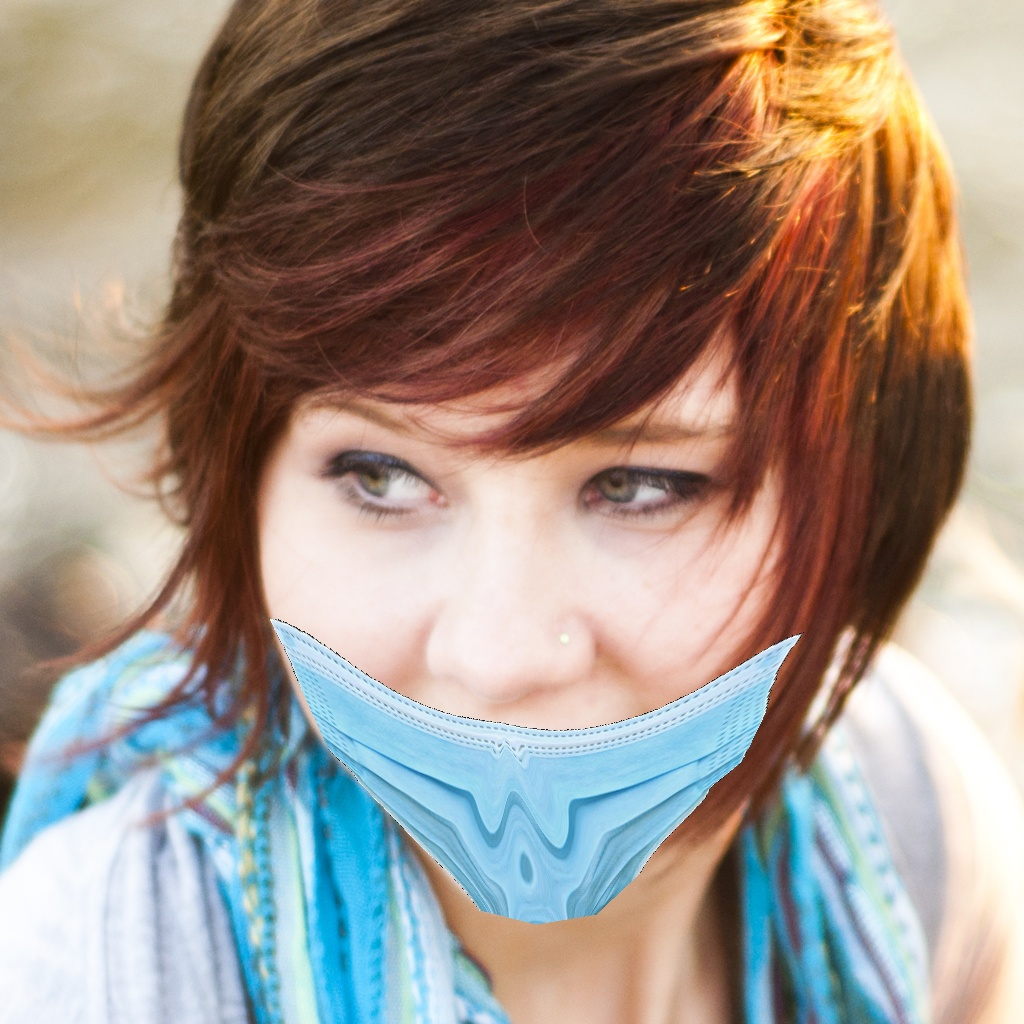mask_weared_incorrect: (238, 359, 853, 947)
